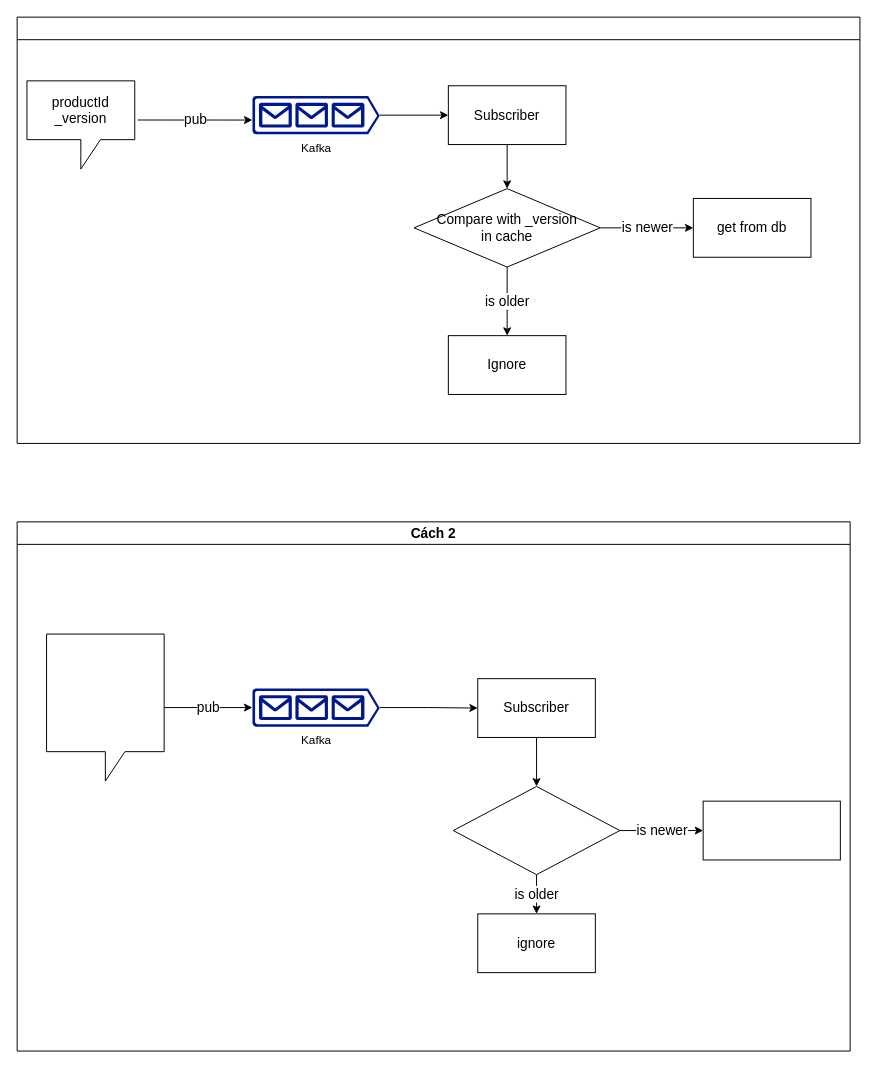
Image size: 877x1068. Some labels were removed from this diagram. Here are the shapes that lost their labels. From the top down, the centre of each, then its label:
point 438,229: Cách 1
point 105,707: Full product props _vesion
point 536,830: Check _version
point 771,830: Rewrite cache data with message payload
